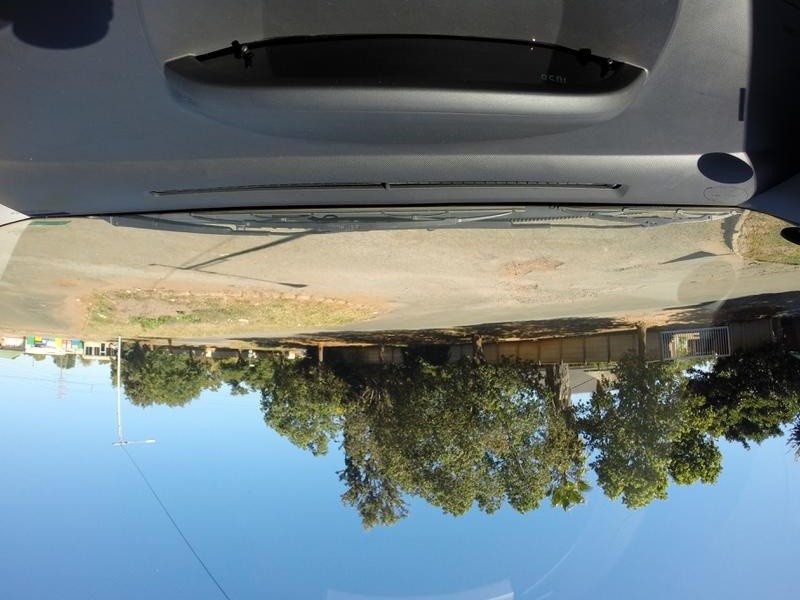pothole: (498, 256, 562, 273), (500, 281, 535, 289), (609, 265, 633, 270)
